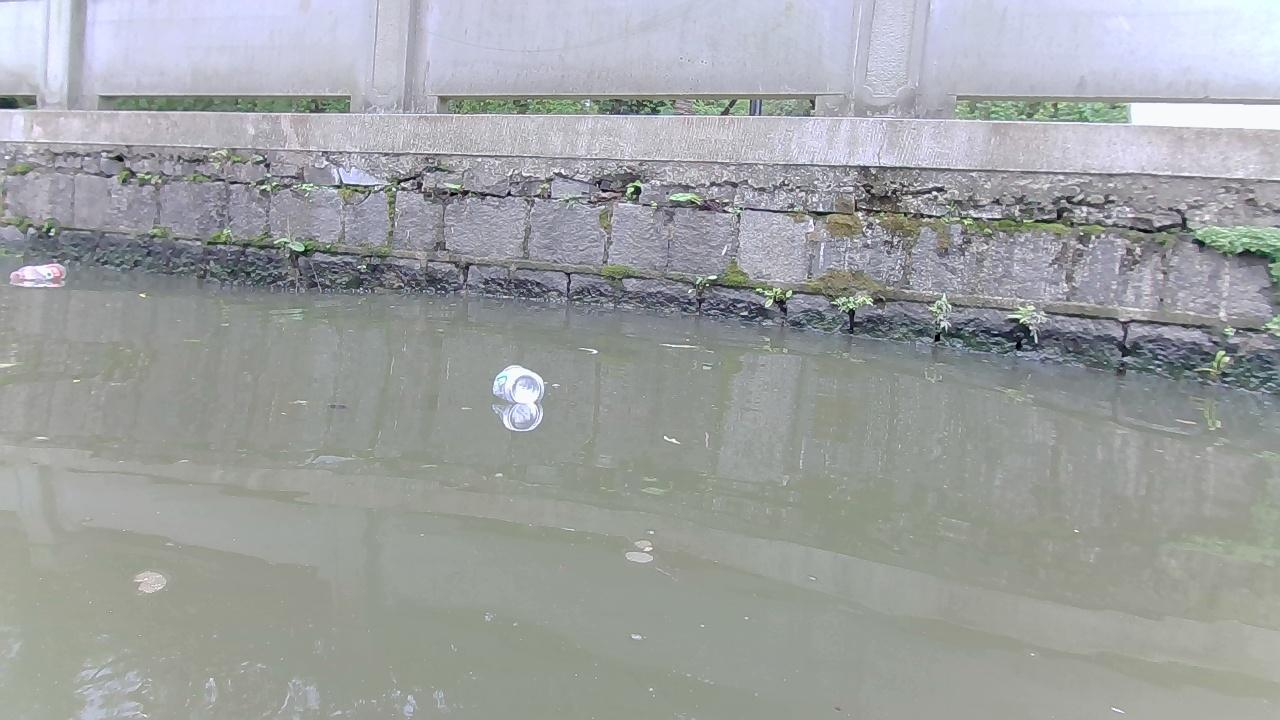bottle: (492, 363, 543, 403), (9, 262, 66, 281)
